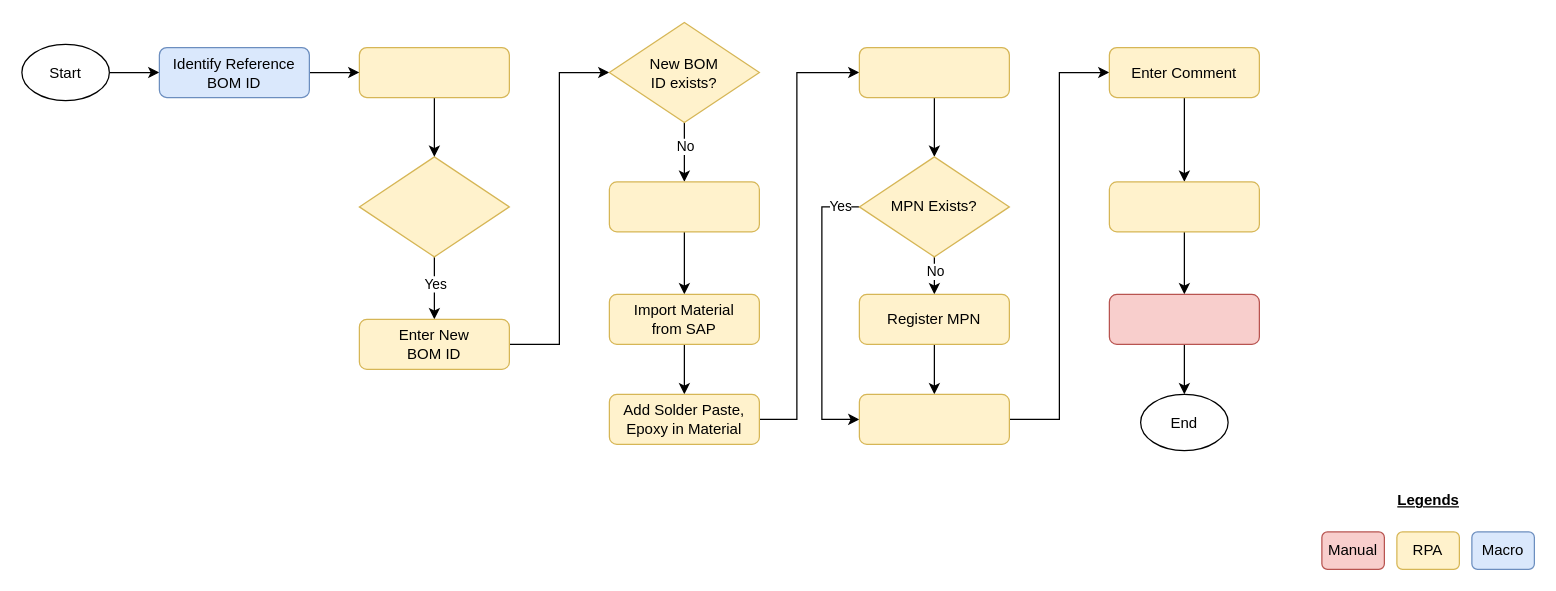
Some shapes in this 1556 by 591 pixel diagram are drawn without their labels. The centre of each missing label's shape, as x and y in pixels:
"Deactivate BOM" goes at (x=1183, y=206).
"Enter MPN" goes at (x=933, y=72).
"Enter Reference BOM ID" goes at (x=433, y=72).
"Enter Title and Description" goes at (x=683, y=206).
"Ref BOM ID exists?" goes at (x=433, y=206).
"Set BOM Status as Prototype" goes at (x=933, y=418).
"Update BOM Option Attributes" goes at (x=1183, y=318).
